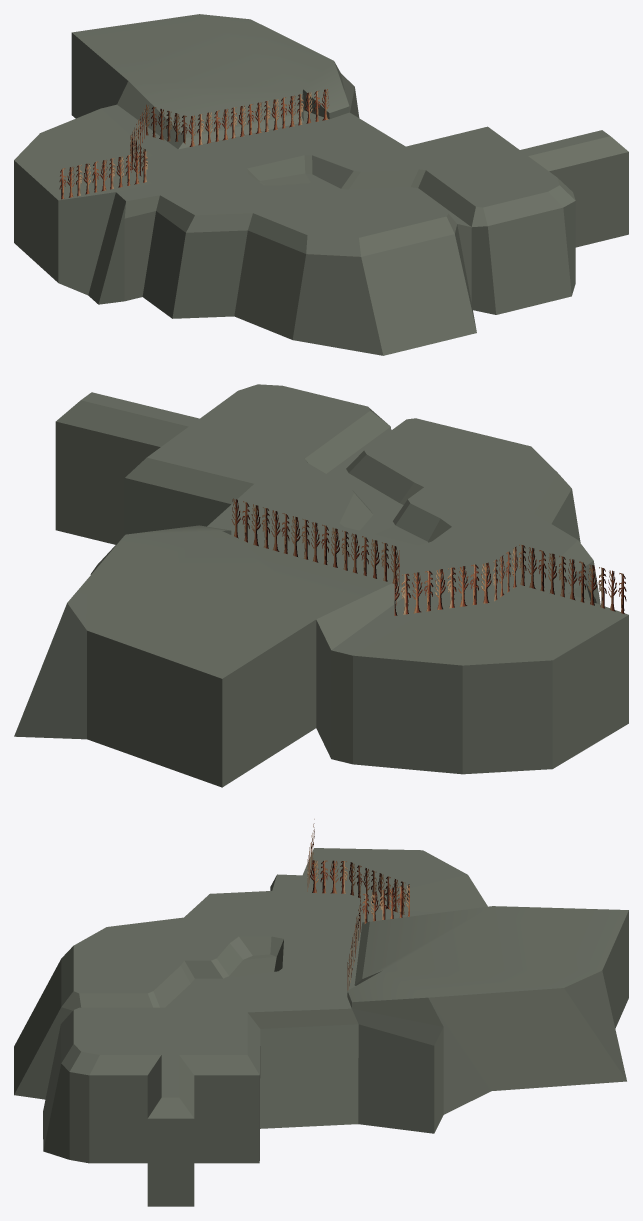
File: DressingSalas_N2_C2.fbx
3 views of the same model, one above another, from view 1: azimuth 30°, elevation 25°; view 2: azimuth 150°, elevation 25°; view 3: azimuth 270°, elevation 25° (orthographic). The views are drawn at different scales.
Parts seen in each view (by area): view 1: Playable_area, ArbolesPlanos6; view 2: Playable_area, ArbolesPlanos6; view 3: Playable_area, ArbolesPlanos6.
Part boxes in pixels (x1,y1,x2,y2): Playable_area: (14,14,628,355); ArbolesPlanos6: (59,89,328,199); Playable_area: (14,384,628,787); ArbolesPlanos6: (231,498,626,615); Playable_area: (14,848,628,1206); ArbolesPlanos6: (307,819,409,990).
Size of the model in its own units: 126 by 31.08 by 128.
Materials: 2 (1 with a texture image).
